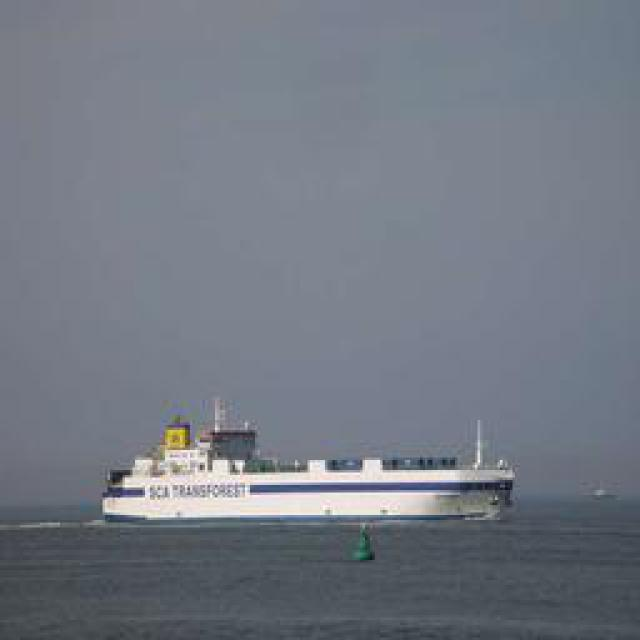Ship: (107, 395, 517, 533)
